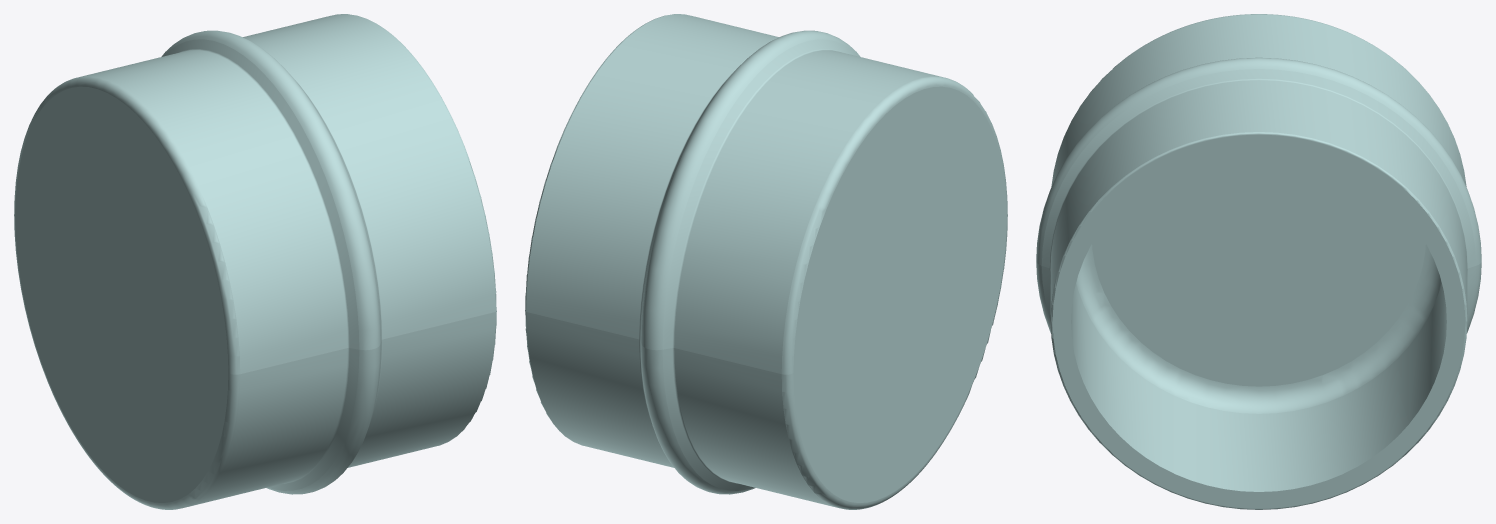
The picture shows the model from 3 angles, left to right: view 1: azimuth 30°, elevation 25°; view 2: azimuth 150°, elevation 25°; view 3: azimuth 270°, elevation 25°; orthographic projection. The views are drawn at different scales.
Size of the model in its own units: 70 by 108 by 108.
